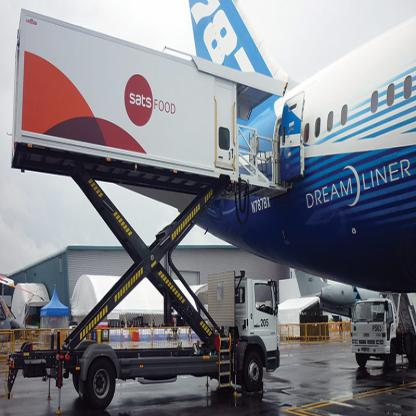Catering truck: (6, 5, 293, 396)
